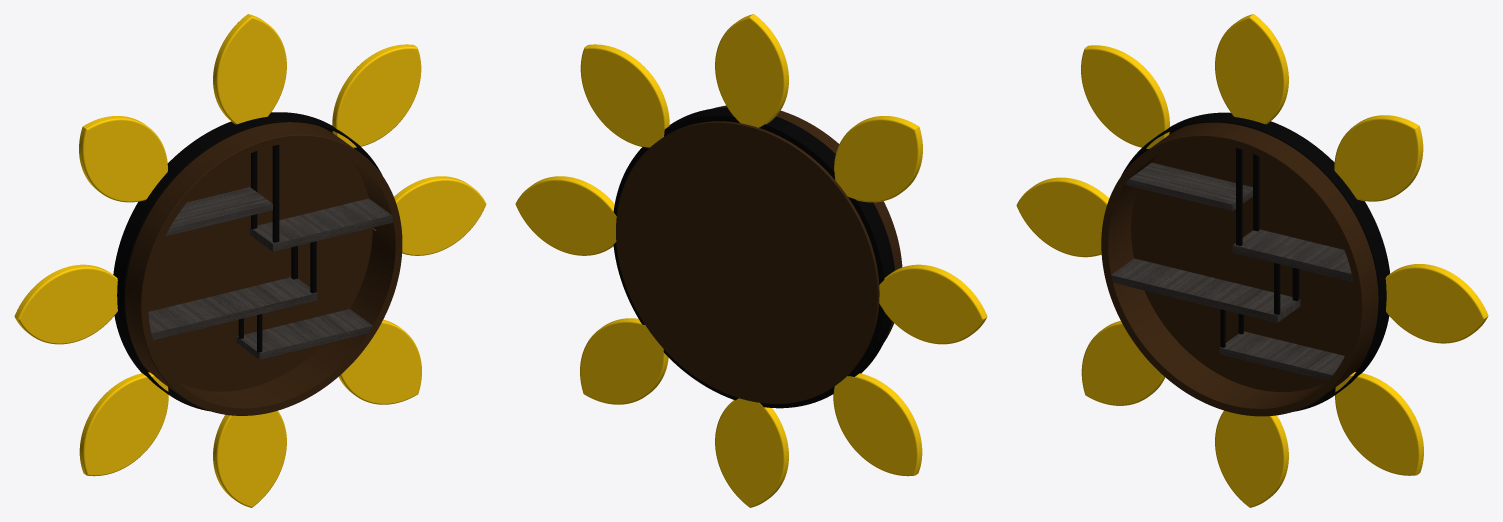
3 views of the same model, side by side, from view 1: azimuth 30°, elevation 25°; view 2: azimuth 150°, elevation 25°; view 3: azimuth 330°, elevation 25° (orthographic).
Visible parts, largest first — view 1: Base, Petal (×8), Wood (×4), Default_Metal Rough Black #1_0, Steel; view 2: Base, Petal (×8), Default_Metal Rough Black #1_0; view 3: Base, Petal (×8), Wood (×4), Default_Metal Rough Black #1_0, Steel (×2).
Boxes of the visible parts, x1,y1,x2,y2 form: Base: (125,122,402,415); Petal (×8): (14,14,486,507); Wood (×4): (148,187,393,359); Default_Metal Rough Black #1_0: (113,112,382,411); Steel: (272,144,279,242); Base: (616,105,902,403); Petal (×8): (515,14,987,507); Default_Metal Rough Black #1_0: (613,107,894,408); Base: (1101,122,1378,416); Petal (×8): (1016,14,1488,507); Wood (×4): (1111,162,1353,380); Default_Metal Rough Black #1_0: (1121,112,1389,411); Steel (×2): (1236,148,1259,245).
Size of the model in its own units: 560 by 562 by 52.6.
Materials: 20 (4 with a texture image).
